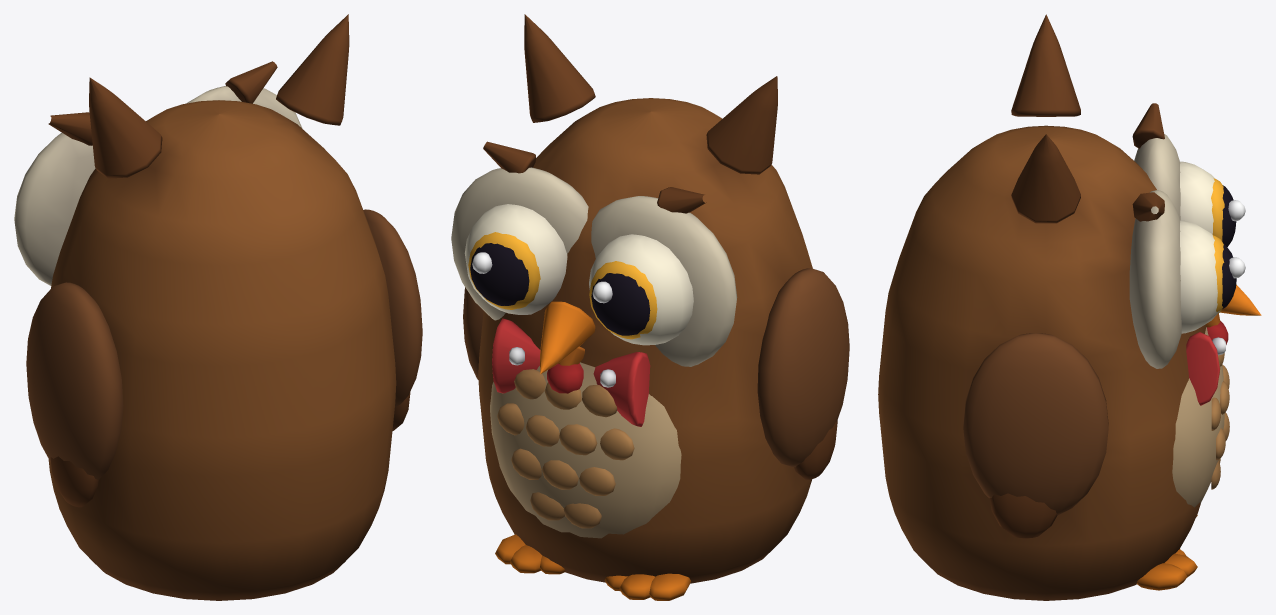
File: ee_puppet_hootie.glb
3 renders of one model, left to right at view 1: azimuth 30°, elevation 25°; view 2: azimuth 150°, elevation 25°; view 3: azimuth 270°, elevation 25°, orthographic. The views are drawn at different scales.
Visible parts, largest first — view 1: merged_toon_ffffff_2, merged_toon_ffffff, merged_toon_ffffff_1; view 2: merged_toon_ffffff_2, merged_toon_ffffff_3, merged_toon_ffffff, merged_toon_ffffff_1; view 3: merged_toon_ffffff_2, merged_toon_ffffff_1, merged_toon_ffffff_3.
Part boxes in pixels (box(x1,y1,x2,y2)): merged_toon_ffffff_2: box(14, 14, 396, 600); merged_toon_ffffff: box(26, 282, 123, 507); merged_toon_ffffff_1: box(363, 209, 422, 431); merged_toon_ffffff_2: box(451, 14, 812, 583); merged_toon_ffffff_3: box(464, 204, 693, 600); merged_toon_ffffff: box(757, 268, 849, 479); merged_toon_ffffff_1: box(463, 287, 483, 379); merged_toon_ffffff_2: box(878, 14, 1229, 600); merged_toon_ffffff_1: box(963, 333, 1108, 538); merged_toon_ffffff_3: box(1136, 161, 1261, 590).
Bounding box in the file's own units: 0.384 × 0.515 × 0.3745.
